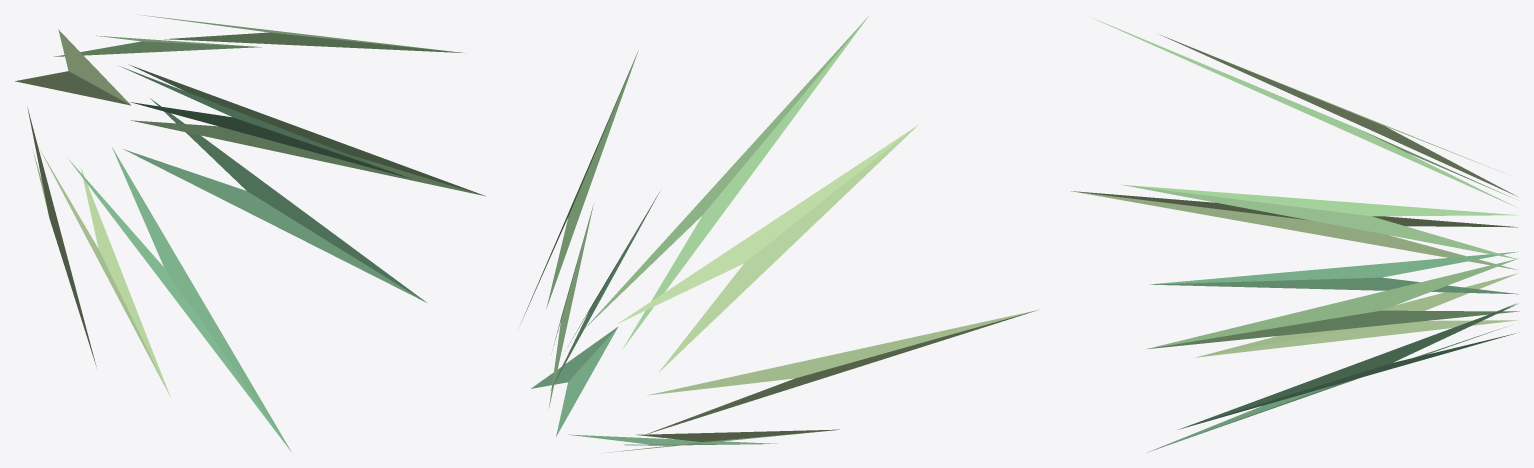
Rendered from grass_tall.glb.
3 views of the same model, side by side, from view 1: azimuth 30°, elevation 25°; view 2: azimuth 150°, elevation 25°; view 3: azimuth 270°, elevation 25° (orthographic). The views are drawn at different scales.
Visible parts, largest first — view 1: grass_tall_grass_dark, grass_tall_grass, grass_tall_grass_light; view 2: grass_tall_grass_light, grass_tall_grass, grass_tall_grass_dark; view 3: grass_tall_grass, grass_tall_grass_light, grass_tall_grass_dark.
Part boxes in pixels (x1,y1,x2,y2): grass_tall_grass_dark: (67, 66, 426, 452); grass_tall_grass: (54, 14, 485, 196); grass_tall_grass_light: (15, 29, 170, 396); grass_tall_grass_light: (603, 125, 1039, 453); grass_tall_grass: (521, 16, 868, 409); grass_tall_grass_dark: (531, 192, 777, 445); grass_tall_grass: (1090, 17, 1519, 349); grass_tall_grass_light: (1071, 35, 1518, 357); grass_tall_grass_dark: (1147, 251, 1518, 452).
Bounding box in the file's own units: 0.8859 × 0.8759 × 0.8697.
